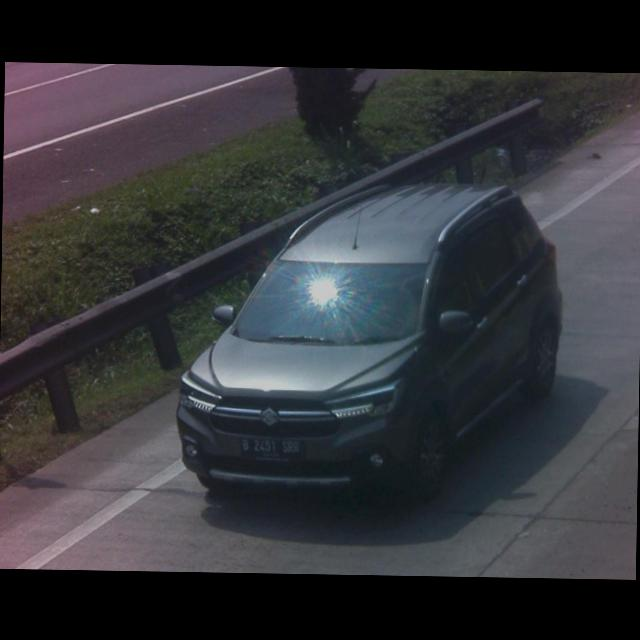plate: (237, 434, 303, 458)
